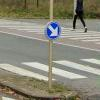crosswalks: (0, 21, 100, 45), (0, 59, 99, 82)
